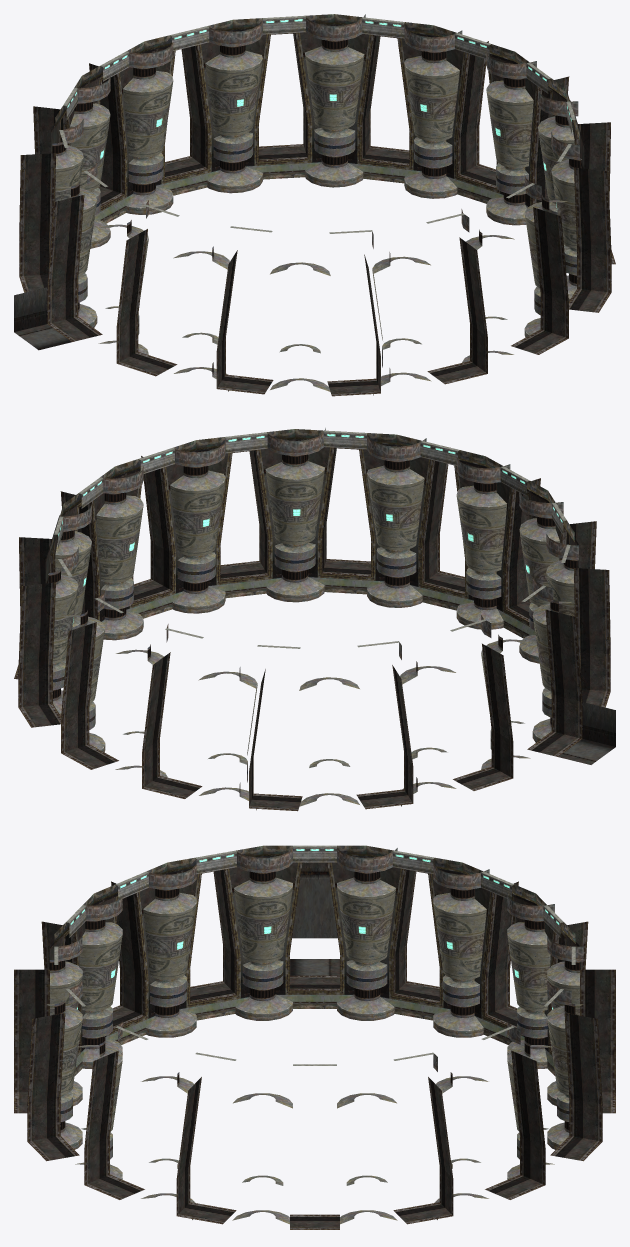
The model's file is bel_arch_rakata_raid_infernal_room_entrance.glb.
3 views of the same model, one above another, from view 1: azimuth 30°, elevation 25°; view 2: azimuth 150°, elevation 25°; view 3: azimuth 270°, elevation 25° (orthographic).
Visible parts, largest first — view 1: bel_arch_rakata_raid_infernal_room_entrance08, NGon23, NGon19, NGon27, NGon31, Object01; view 2: bel_arch_rakata_raid_infernal_room_entrance08, NGon27, NGon31, NGon23, NGon19, Object01; view 3: bel_arch_rakata_raid_infernal_room_entrance08, NGon19, NGon31, NGon23, NGon27, Object01.
Part boxes in pixels (left/top/right/bottom): bel_arch_rakata_raid_infernal_room_entrance08: left=19, top=14, right=615, bottom=396; NGon23: left=170, top=14, right=536, bottom=225; NGon19: left=52, top=42, right=173, bottom=327; NGon27: left=461, top=62, right=581, bottom=362; NGon31: left=98, top=200, right=464, bottom=395; Object01: left=14, top=287, right=71, bottom=350; bel_arch_rakata_raid_infernal_room_entrance08: left=14, top=429, right=610, bottom=811; NGon27: left=78, top=428, right=426, bottom=640; NGon31: left=420, top=441, right=578, bottom=742; NGon23: left=48, top=504, right=203, bottom=793; NGon19: left=198, top=585, right=545, bottom=810; Object01: left=558, top=702, right=615, bottom=764; bel_arch_rakata_raid_infernal_room_entrance08: left=14, top=845, right=615, bottom=1229; NGon19: left=293, top=845, right=583, bottom=1106; NGon31: left=49, top=848, right=292, bottom=1106; NGon23: left=337, top=946, right=582, bottom=1224; NGon27: left=47, top=981, right=336, bottom=1224; Object01: left=290, top=863, right=339, bottom=975.
Bounding box in the file's own units: 14.23 × 4 × 13.37.
Materials: 5 (5 with a texture image).
